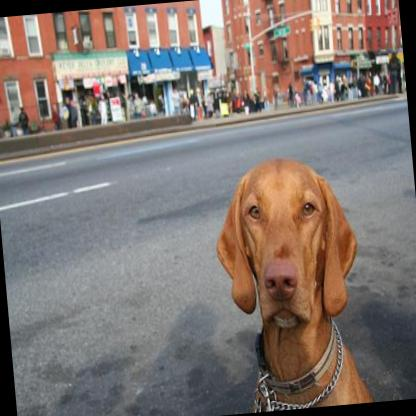vizsla: (204, 149, 372, 413)
